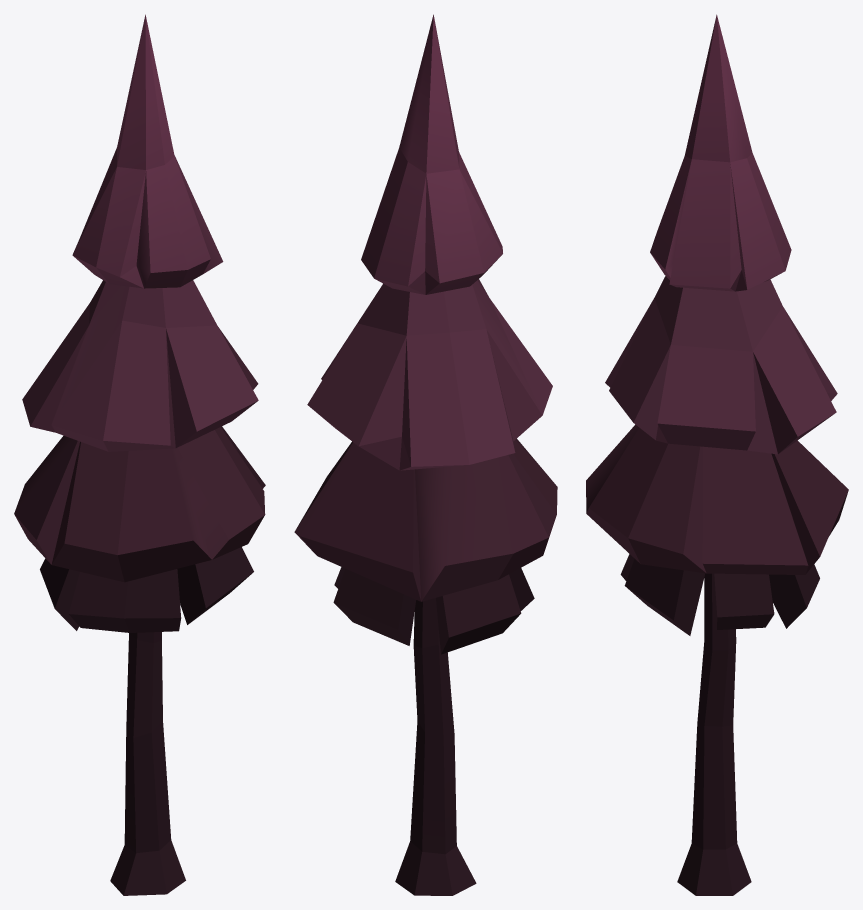
The model's file is tree_forest.fbx.
3 views of the same model, side by side, from view 1: azimuth 30°, elevation 25°; view 2: azimuth 150°, elevation 25°; view 3: azimuth 270°, elevation 25° (orthographic).
Parts seen in each view (by area): view 1: tree_forest; view 2: tree_forest; view 3: tree_forest.
Part boxes in pixels (x1=…): tree_forest: x1=14, y1=14, x2=265, y2=895; tree_forest: x1=294, y1=14, x2=557, y2=895; tree_forest: x1=586, y1=14, x2=848, y2=895.
Bounding box in the file's own units: 106 × 389 × 107.
